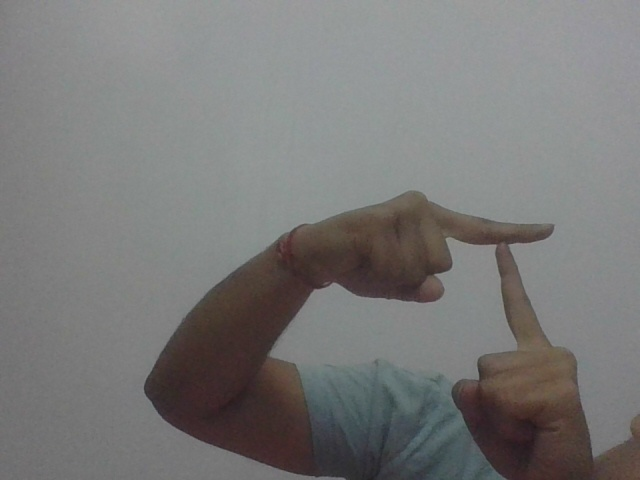T: (317, 189, 596, 429)
